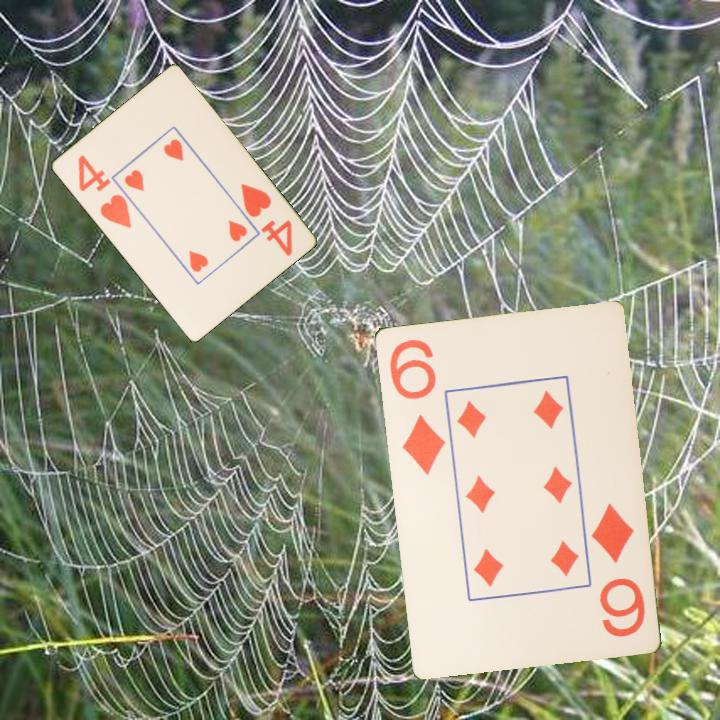4h: (74, 151, 134, 231), (237, 179, 295, 260)
6d: (385, 335, 448, 478), (587, 499, 648, 640)
